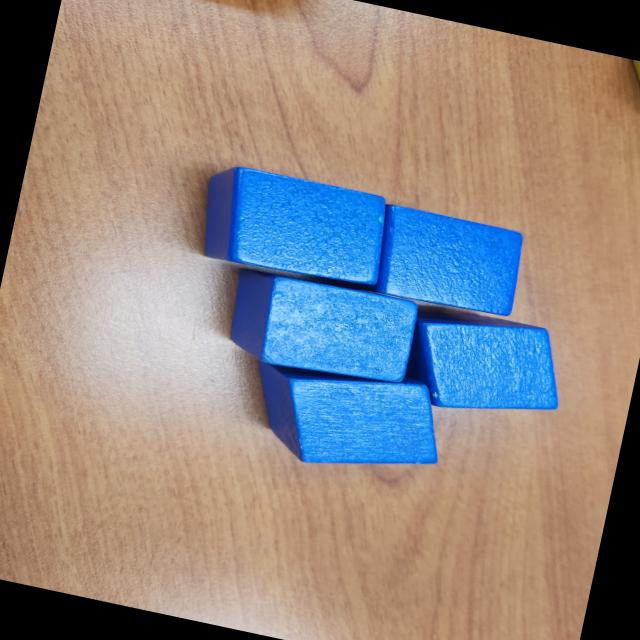blue: (239, 348, 458, 492), (188, 160, 400, 294), (220, 262, 424, 392), (400, 301, 576, 433), (368, 202, 530, 324)
yellow: (613, 58, 640, 129)
